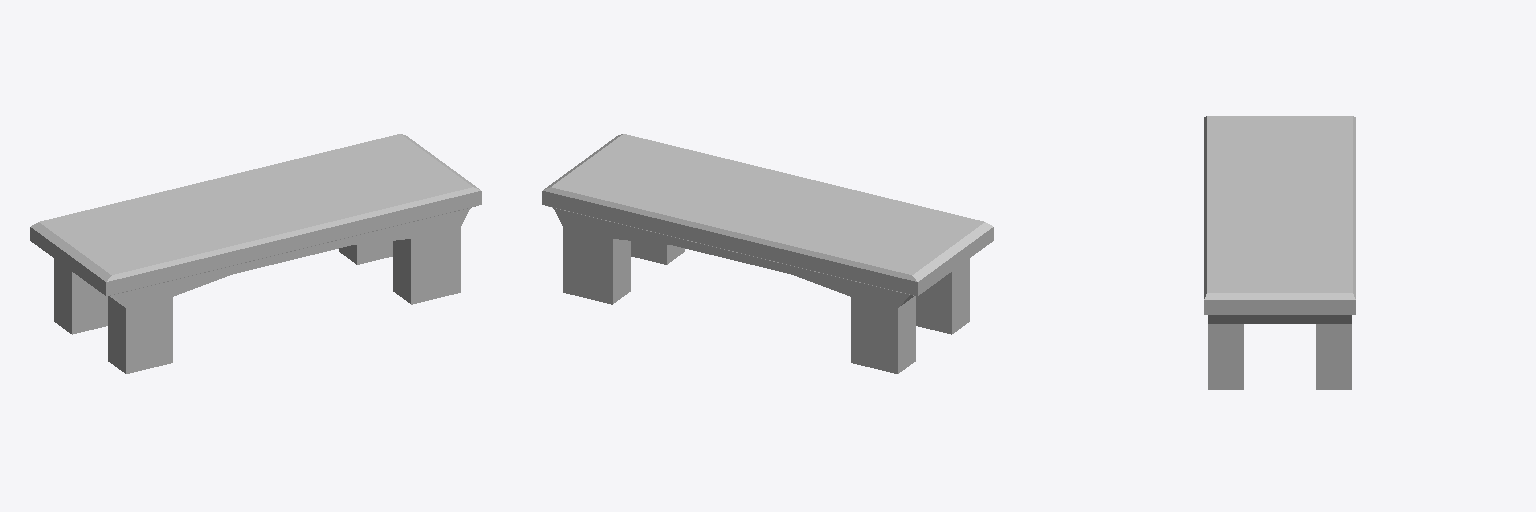
The model's file is AnotherBench.obj.
3 renders of one model, left to right at view 1: azimuth 30°, elevation 25°; view 2: azimuth 150°, elevation 25°; view 3: azimuth 270°, elevation 25°, orthographic.
Visible parts, largest first — view 1: Cube; view 2: Cube; view 3: Cube.
Part boxes in pixels (x1,y1,x2,y2): Cube: (30, 134, 481, 373); Cube: (542, 134, 993, 373); Cube: (1204, 116, 1355, 389).
Bounding box in the file's own units: 0.9653 × 0.2529 × 0.3376.